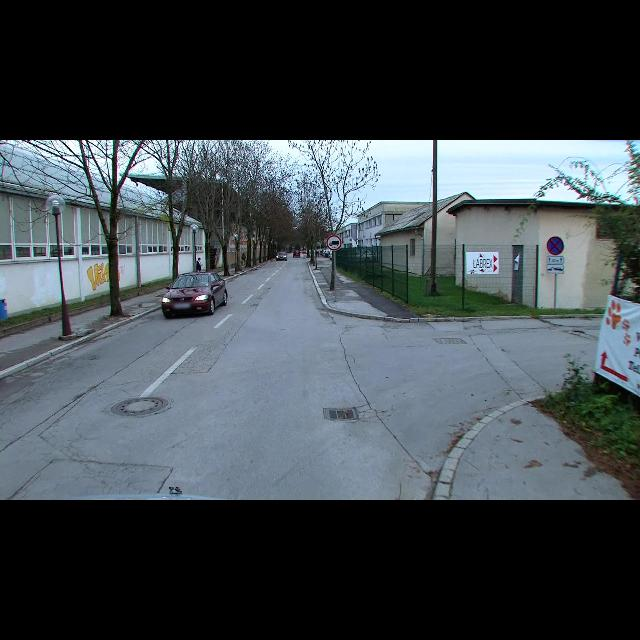Rectangle: (546, 256, 566, 264), (548, 265, 564, 273)
Round: (547, 236, 565, 256), (326, 234, 342, 250)
